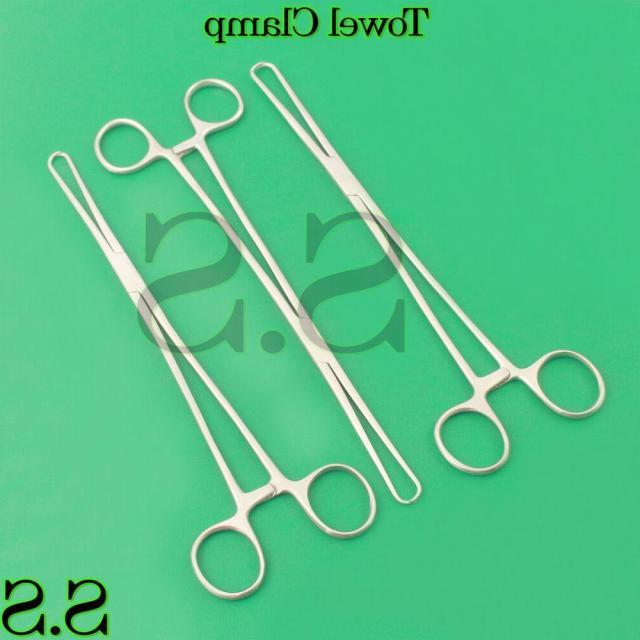Towel_clip: (244, 56, 612, 482), (48, 149, 383, 607), (88, 74, 428, 510)
